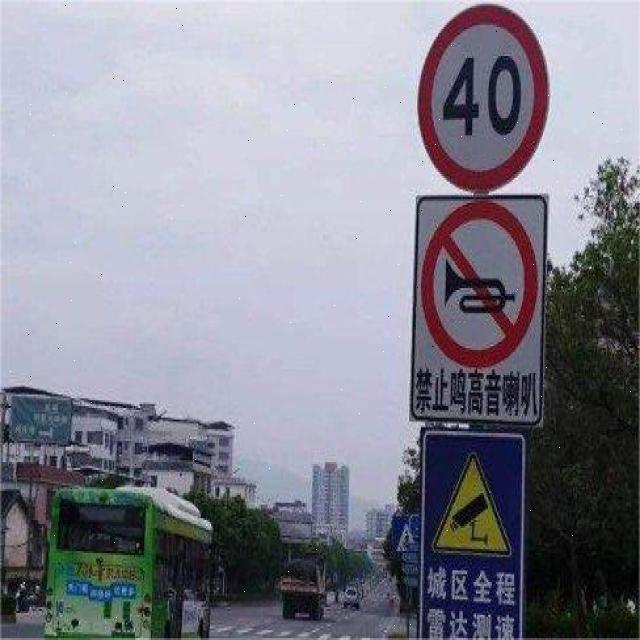speed limit 40: (415, 7, 550, 189)
